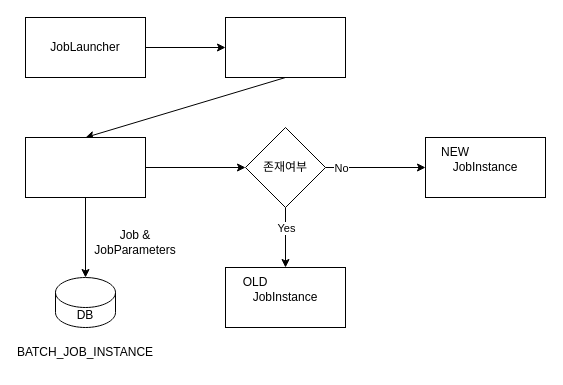
The diagram is 563 pixels wide and 385 high, and some of its shapes have lost their labels. The shapes that lost their labels are listed below. From the top down, each one's centre as x and y in pixels, then its label:
pixel 285 47: Job JobParameters
pixel 85 167: JobRepository
